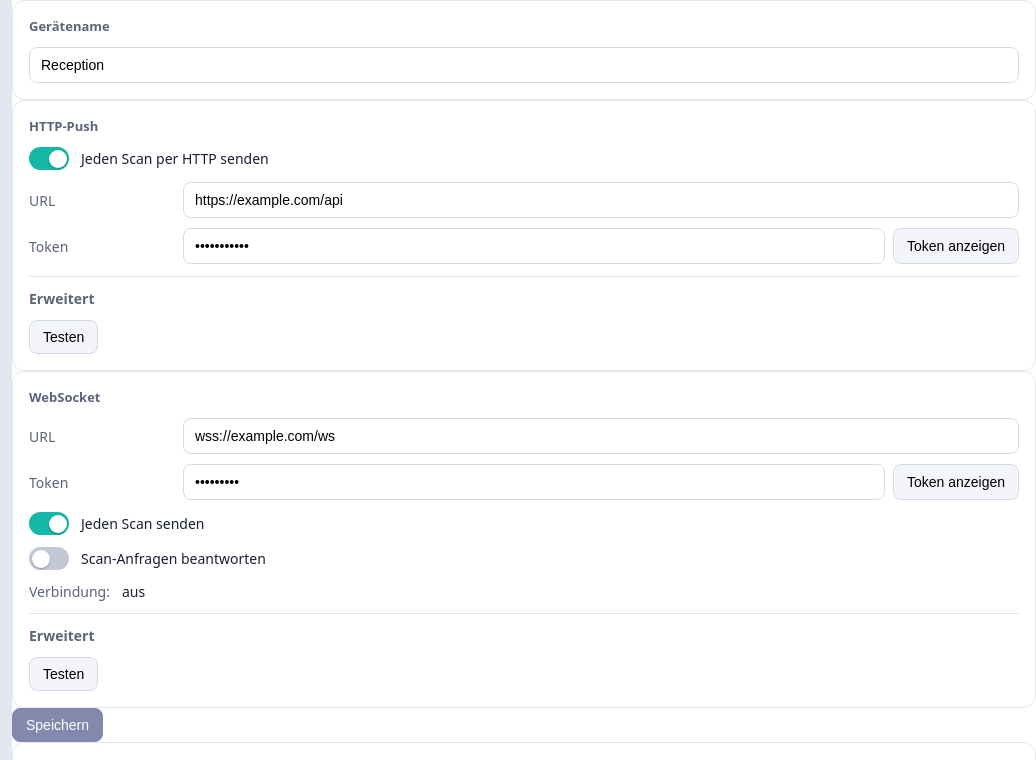
it: ServerSettings › tests HTTP with the form values and shows OK
The width and height of the screenshot is (1036, 760).
Replace the text in the field with test id "http-url" with "https://typed.example/x": (601, 200) [183,182,1019,218]
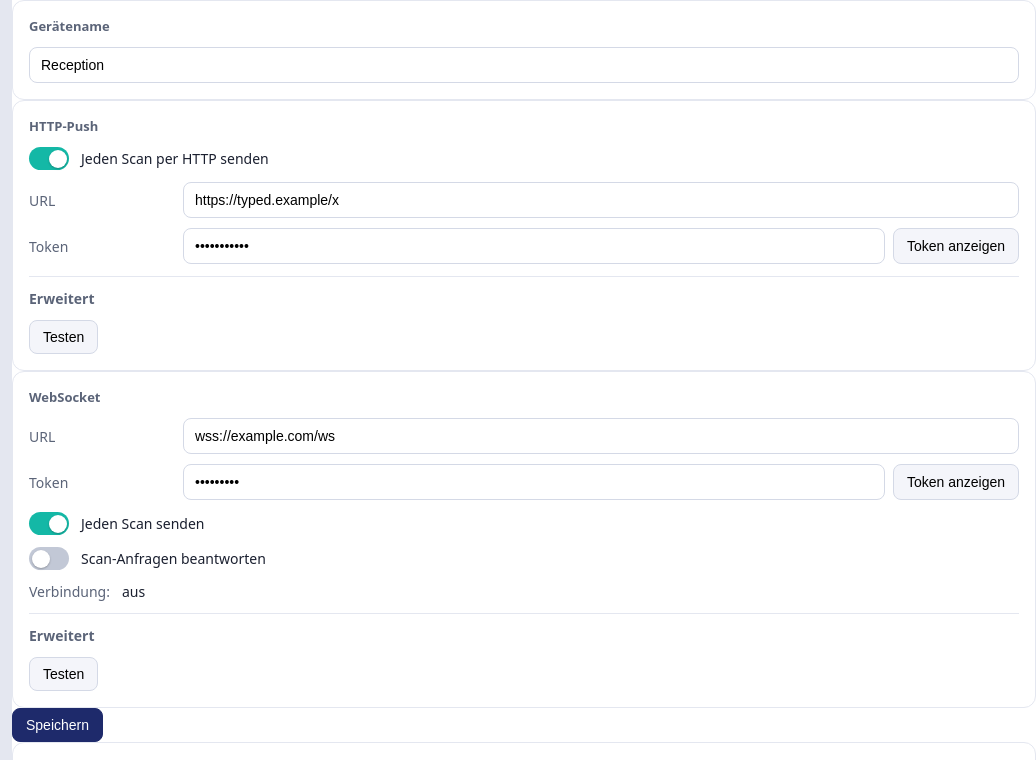
Click the button with test id "http-test": (64, 337) [29,320,98,354]
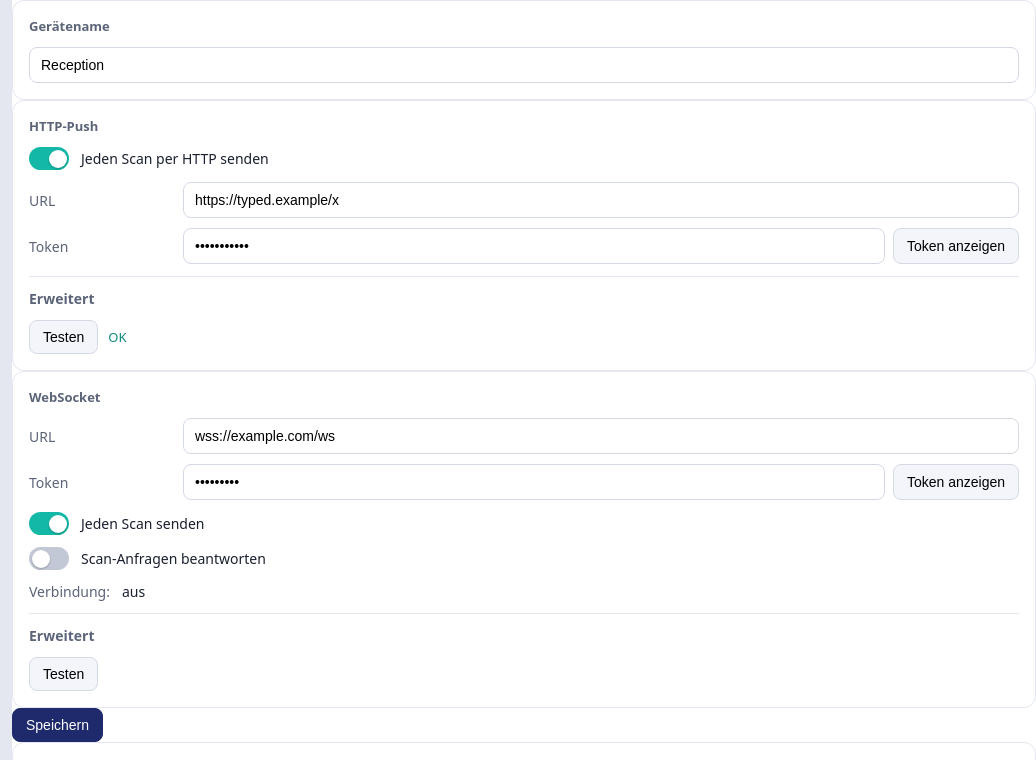
Now the text with test id "http-test-result" reads "OK", box [108,328,126,346]
